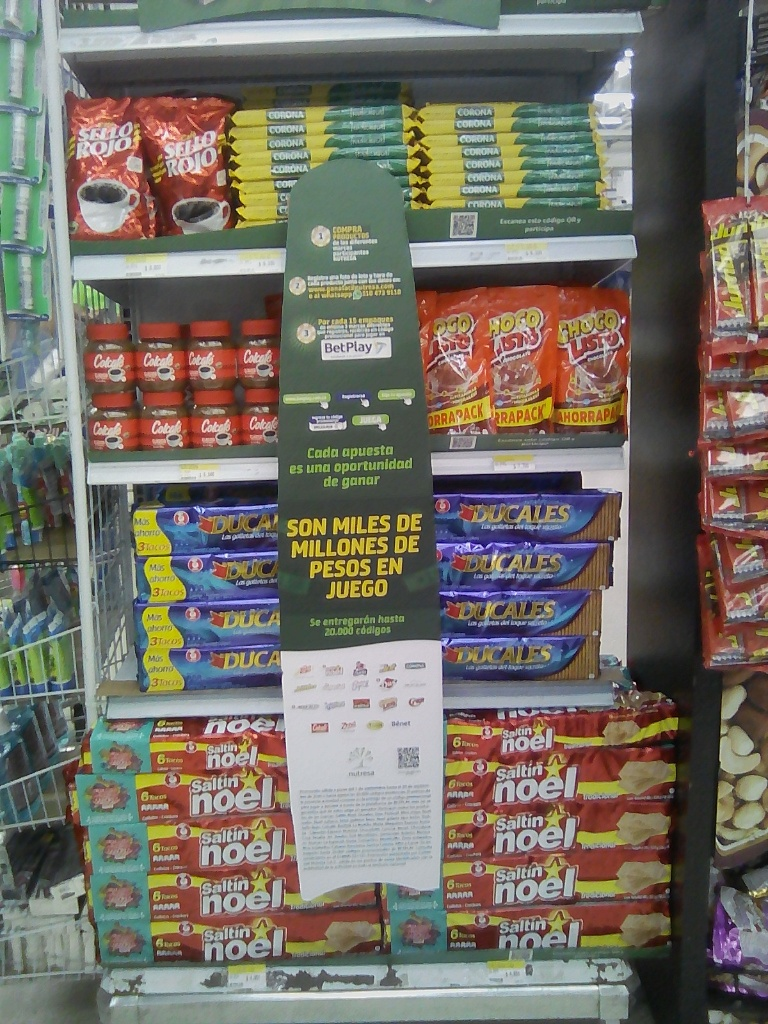COL0170103DYP36000: (484, 288, 560, 438)
